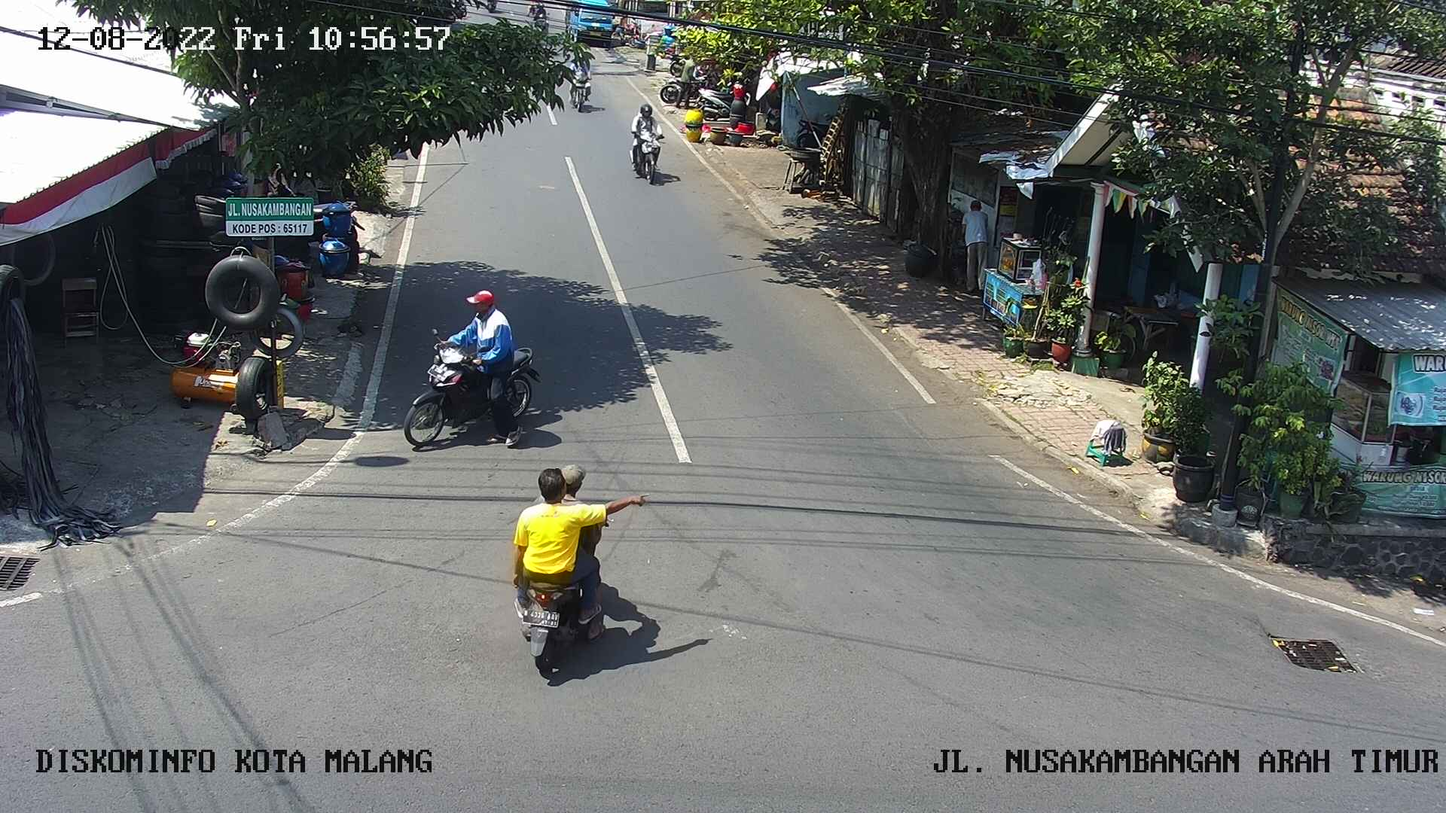with_helmet: (627, 101, 666, 187)
without_helmet: (502, 458, 657, 692), (393, 288, 553, 445)
